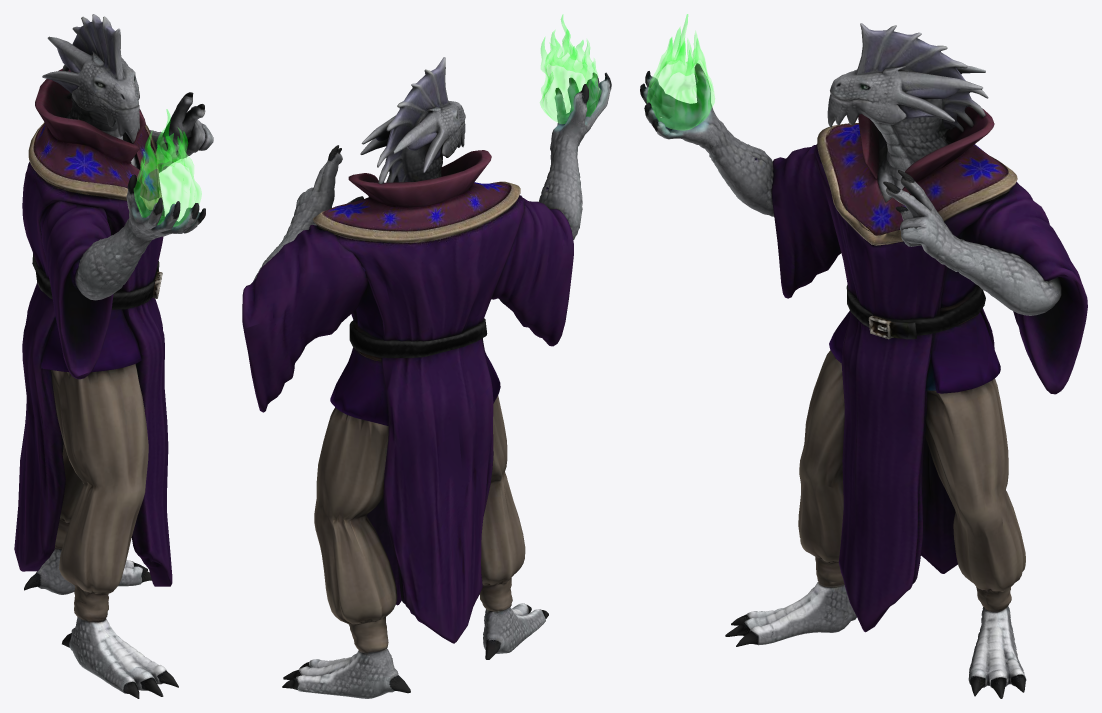
Rendered from MZ4250 - Silver Dragonborn Male Sorcerer_2.glb.
3 views of the same model, side by side, from view 1: azimuth 30°, elevation 25°; view 2: azimuth 150°, elevation 25°; view 3: azimuth 270°, elevation 25° (orthographic). The views are drawn at different scales.
Visible parts, largest first — view 1: Body.002; view 2: Body.002; view 3: Body.002.
Part boxes in pixels (x1,y1,x2,y2): Body.002: [14, 14, 213, 698]; Body.002: [242, 15, 611, 698]; Body.002: [640, 14, 1087, 698].
Bounding box in the file's own units: 34.23 × 92.45 × 59.82.
Materials: 4 (4 with a texture image).
